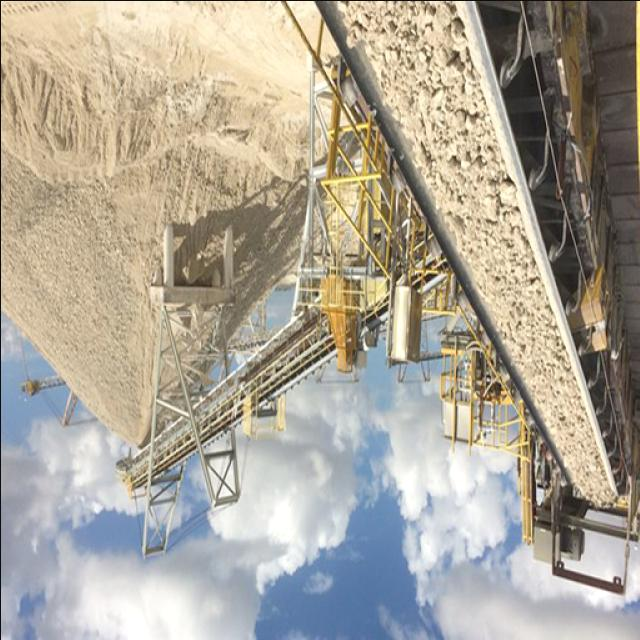conveyor: (317, 0, 613, 499)
